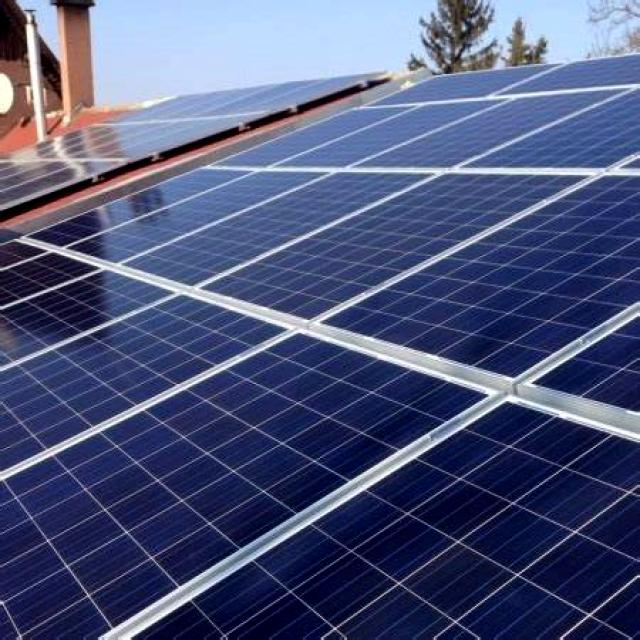crack: (3, 107, 640, 640), (60, 311, 498, 561)
